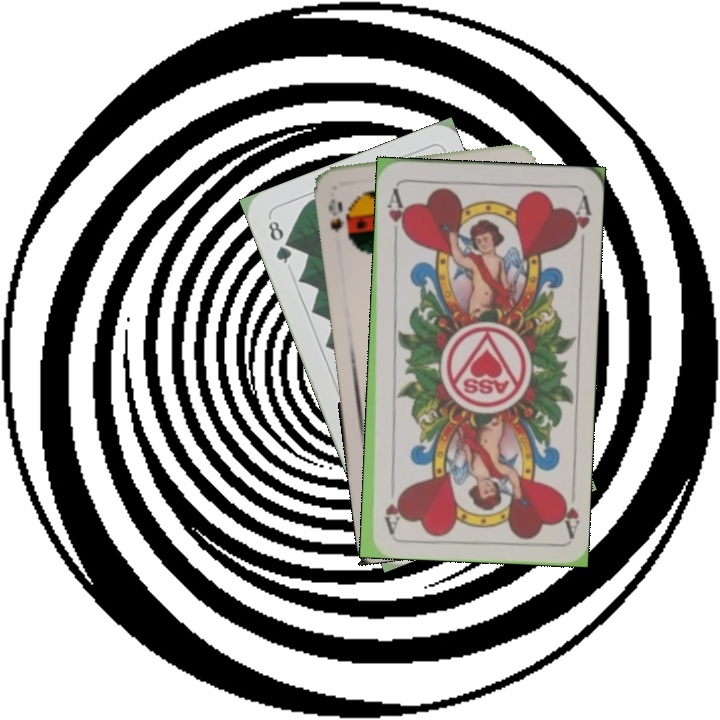G8: (264, 216, 295, 267)
HA: (383, 184, 409, 242), (554, 488, 581, 540)
SO: (324, 195, 352, 242)
